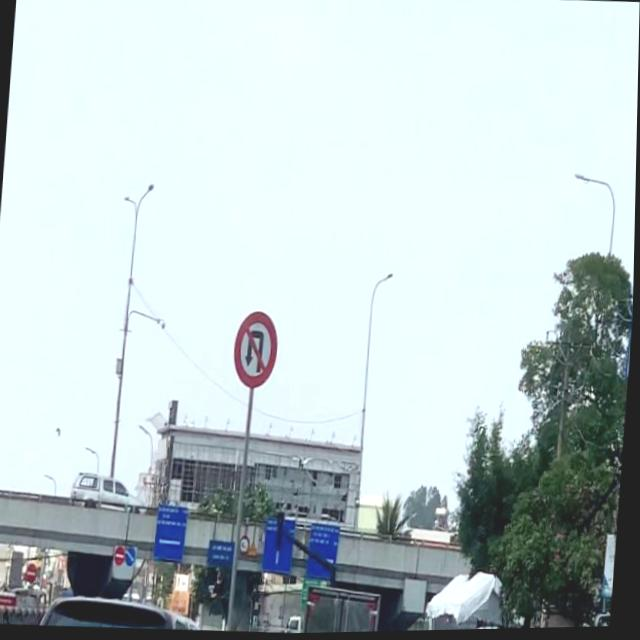Cam di nguoc chieu: (115, 546, 128, 568)
Cam quay dau xe: (233, 310, 286, 395)
Han che chieu cao: (242, 534, 253, 558)
Vong chuong ngai vat sang phai: (127, 546, 140, 569)
